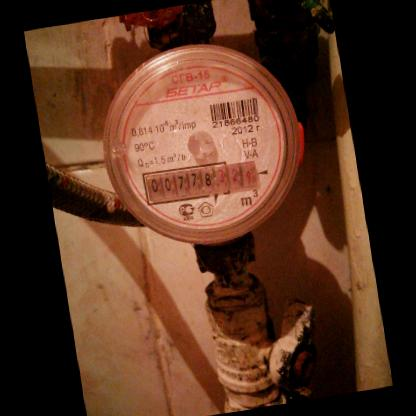digital_screen: (140, 162, 215, 205)
